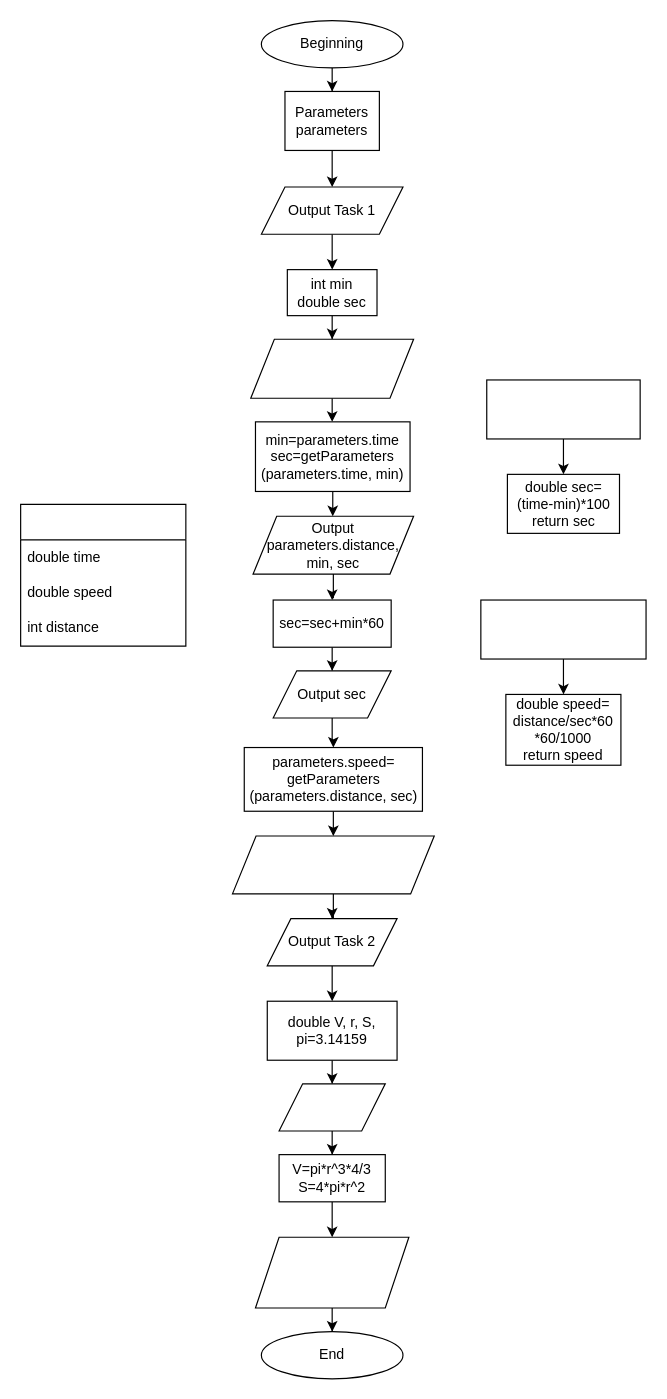
Image size: 667x1399. Some labels were removed from this diagram. The box of each missing label's shape, as (x1, y1, x2, y2) in pixels:
double getParameters (double time, int min): (486, 379, 640, 439)
double getParameters (int distance, double sec): (480, 599, 646, 659)
Input parameters.distance, parameters.time: (250, 338, 414, 398)
Input r: (278, 1083, 385, 1131)
Output round( parameters.speed*100)/100: (231, 835, 434, 894)
Output round(V*100)/100 round(S*100)/100: (254, 1236, 409, 1308)
Struct Parameters: (19, 503, 186, 646)
